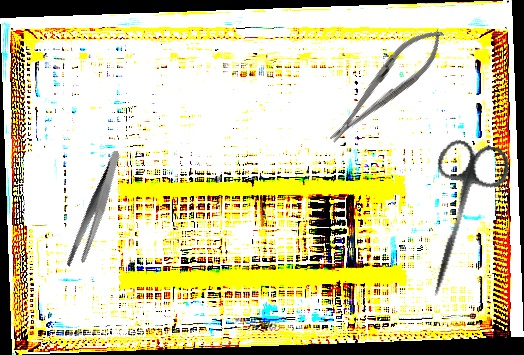Dressing Forceps: (42, 149, 149, 273)
Iris Scissors: (403, 133, 514, 307)
Needle Holder: (318, 17, 454, 154)
